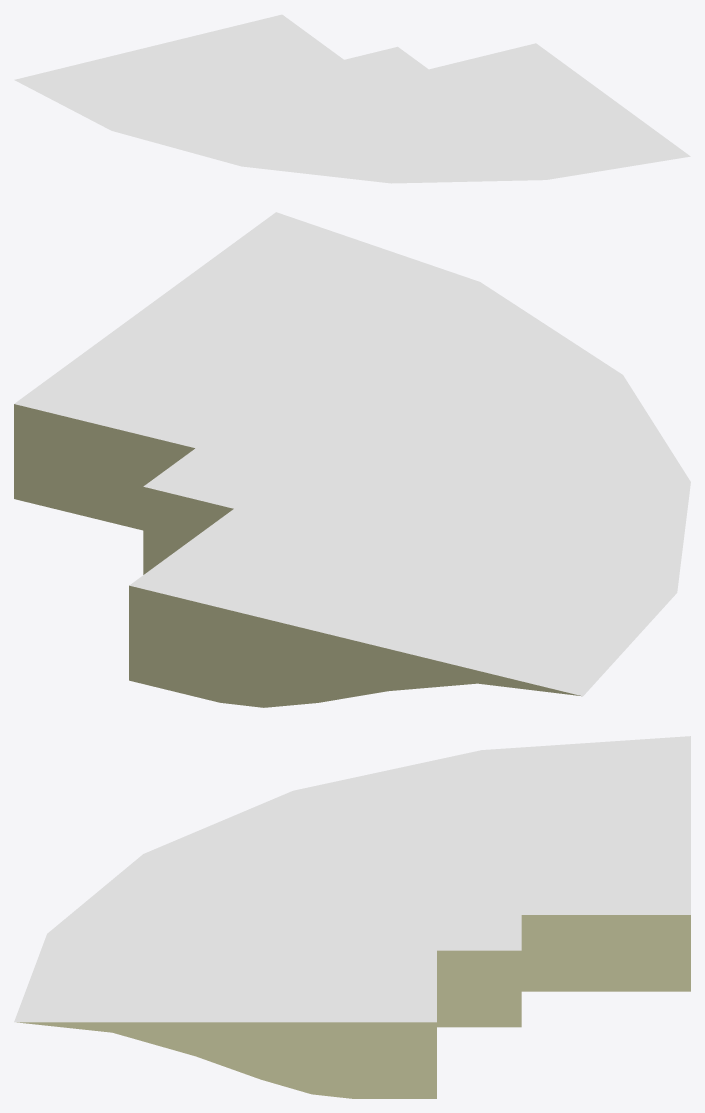
The model's file is Ceiling_Curve_Outer_8x8.glb.
3 views of the same model, one above another, from view 1: azimuth 30°, elevation 25°; view 2: azimuth 150°, elevation 25°; view 3: azimuth 270°, elevation 25° (orthographic). The views are drawn at different scales.
Parts seen in each view (by area): view 1: Ceiling_Curve_Outer_8x8; view 2: Ceiling_Curve_Outer_8x8; view 3: Ceiling_Curve_Outer_8x8.
Part boxes in pixels (x1,y1,x2,y2): Ceiling_Curve_Outer_8x8: (14,14,690,183); Ceiling_Curve_Outer_8x8: (14,212,690,707); Ceiling_Curve_Outer_8x8: (14,736,690,1098).
Size of the model in its own units: 800 by 100 by 800.
